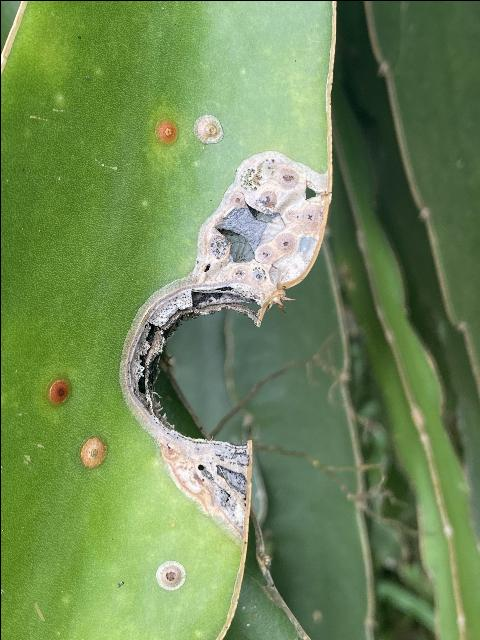stemcanker: (112, 145, 335, 547)
